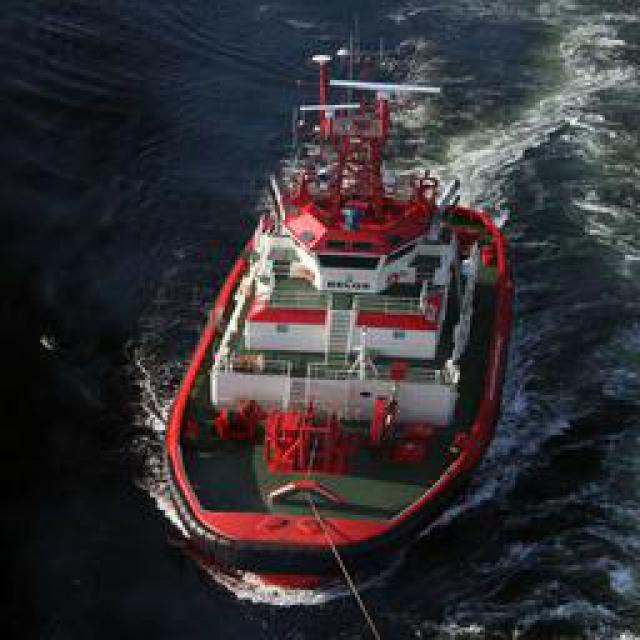Ship: (157, 53, 515, 591)
